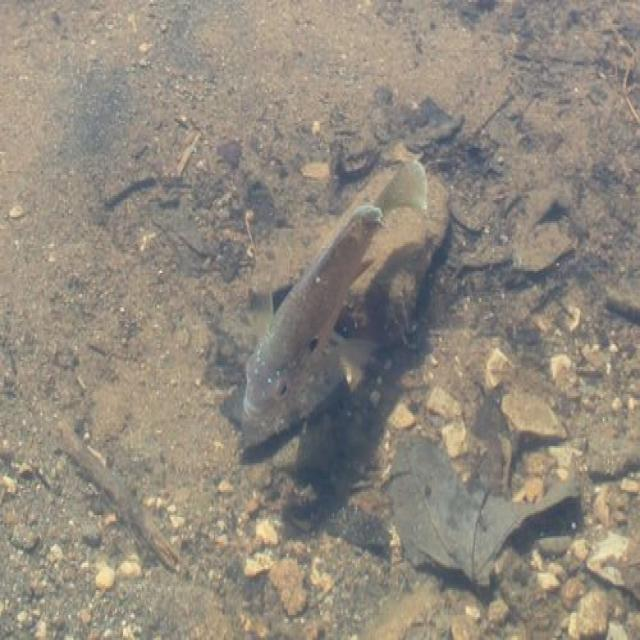Gunes Levregi: (241, 156, 431, 450)
